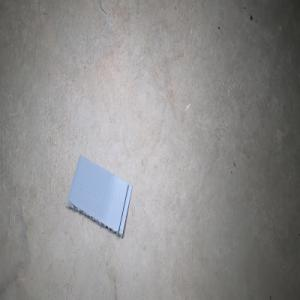PlasticPart: (63, 153, 132, 238)
